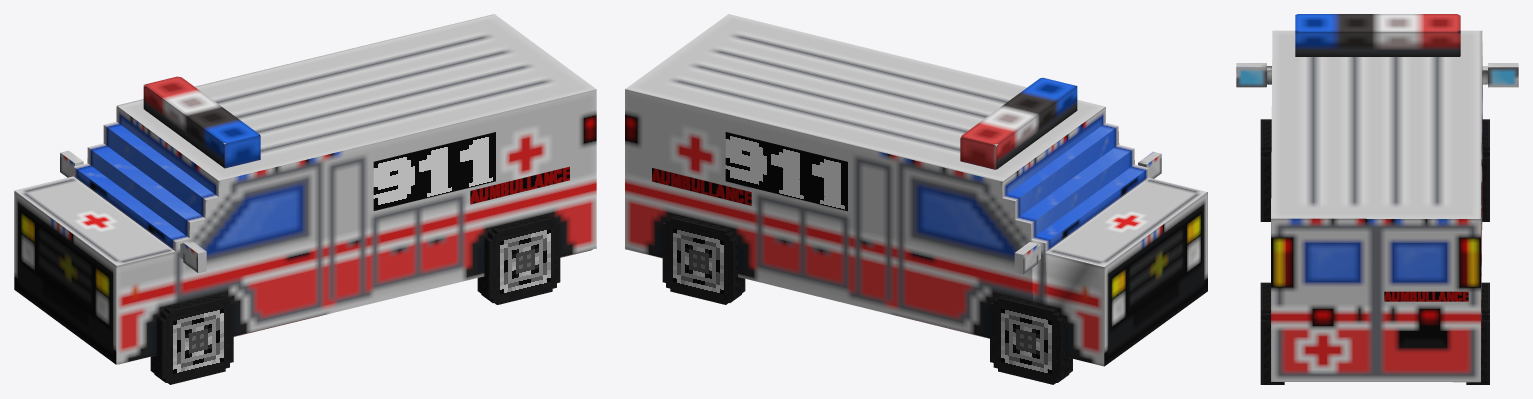
The model's file is BGN_AUMBULANCE.fbx.
3 renders of one model, left to right at view 1: azimuth 30°, elevation 25°; view 2: azimuth 150°, elevation 25°; view 3: azimuth 270°, elevation 25°, orthographic. The views are drawn at different scales.
Parts seen in each view (by area): view 1: BGN_AUMBULANCE, TAGS, TIRE__7_, TIRE__8_, TAGS_2; view 2: BGN_AUMBULANCE, TAGS_1, TIRE__6_, TIRE__5_, TAGS_3; view 3: BGN_AUMBULANCE, TIRE__7_, TIRE__8_, TIRE__6_, TAGS_4, TIRE__5_.
Boxes of the visible parts, <box> form: BGN_AUMBULANCE: <box>14,14,596,364</box>; TAGS: <box>373,132,495,210</box>; TIRE__7_: <box>150,294,233,384</box>; TIRE__8_: <box>477,215,560,304</box>; TAGS_2: <box>470,166,569,204</box>; BGN_AUMBULANCE: <box>625,14,1207,366</box>; TAGS_1: <box>725,132,847,211</box>; TIRE__6_: <box>662,215,745,304</box>; TIRE__5_: <box>990,295,1072,384</box>; TAGS_3: <box>652,168,751,205</box>; BGN_AUMBULANCE: <box>1236,14,1518,382</box>; TIRE__7_: <box>1260,119,1271,221</box>; TIRE__8_: <box>1260,282,1284,384</box>; TIRE__6_: <box>1466,282,1489,384</box>; TAGS_4: <box>1384,291,1468,301</box>; TIRE__5_: <box>1482,119,1489,221</box>.
Size of the model in its own units: 540 by 227 by 269.
